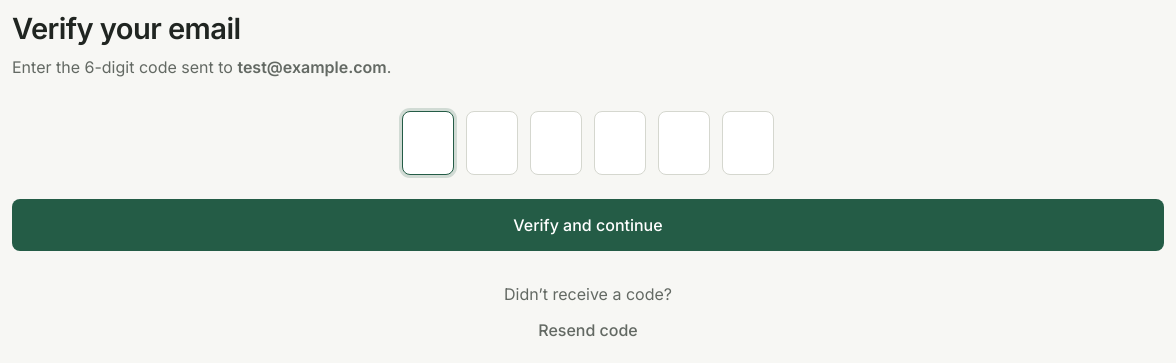
Test case: OtpVerification › resends the code and starts the cooldown
Click the button "Resend code".
click(588, 330)  # box [530,314,646,346]
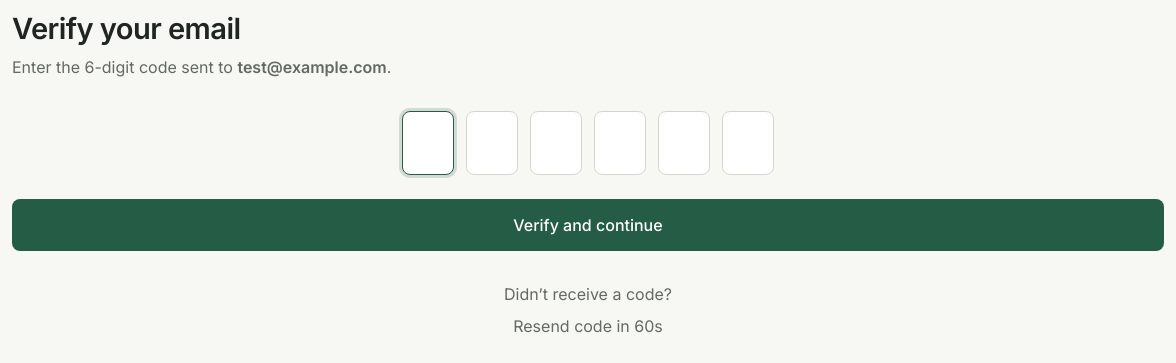
Now the text "Resend code in 60s" is shown, box [513,314,663,338]
